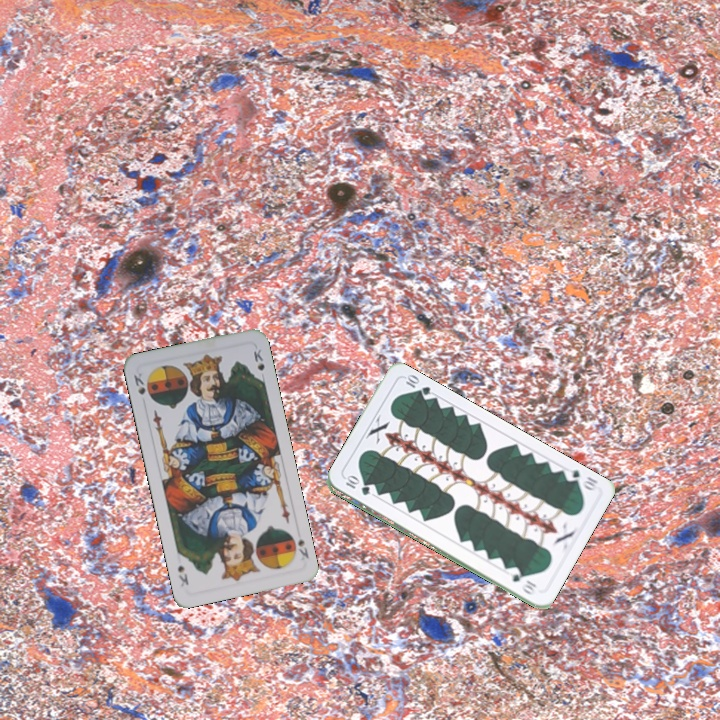G10: (560, 464, 600, 493), (341, 474, 373, 498)
SK: (130, 369, 153, 402), (294, 534, 312, 563)
